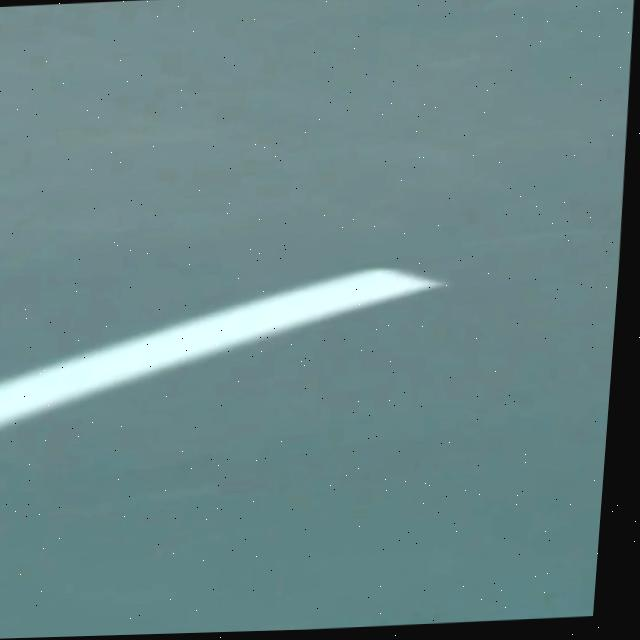center: (0, 267, 440, 428)
